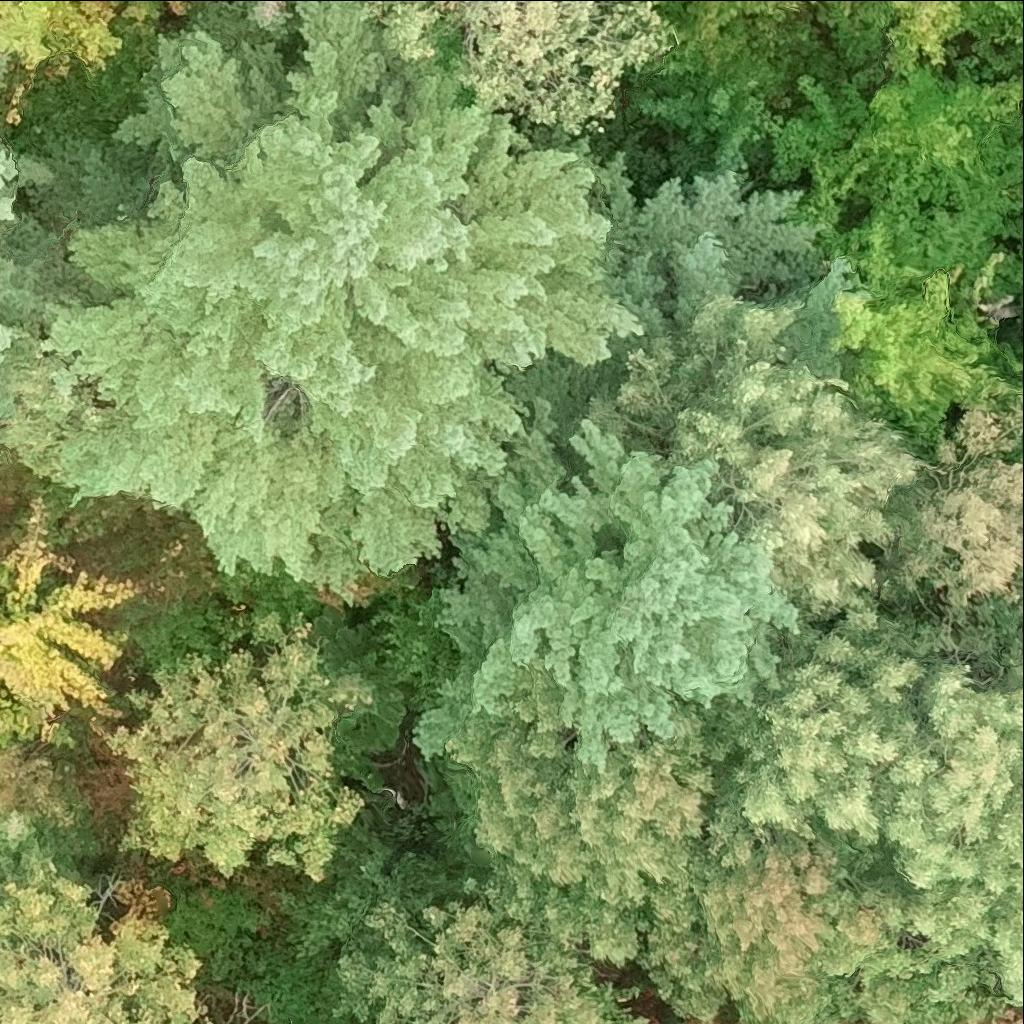crown: (36, 0, 642, 605), (418, 413, 807, 770), (484, 165, 848, 493), (631, 749, 990, 1023), (615, 302, 928, 616), (450, 663, 715, 964), (848, 594, 1023, 1003), (94, 636, 364, 878), (670, 606, 925, 849), (339, 0, 684, 138), (333, 907, 645, 1023), (837, 275, 1023, 467), (864, 412, 1023, 632), (0, 859, 203, 1023), (0, 504, 141, 716), (853, 64, 1023, 198), (0, 0, 121, 123), (303, 619, 405, 754), (0, 686, 79, 825), (682, 0, 799, 76), (885, 0, 988, 75), (0, 247, 42, 364), (0, 808, 80, 867), (0, 852, 80, 901), (0, 137, 26, 218), (126, 0, 155, 20), (141, 1014, 184, 1023), (844, 0, 864, 16), (168, 0, 185, 12)
